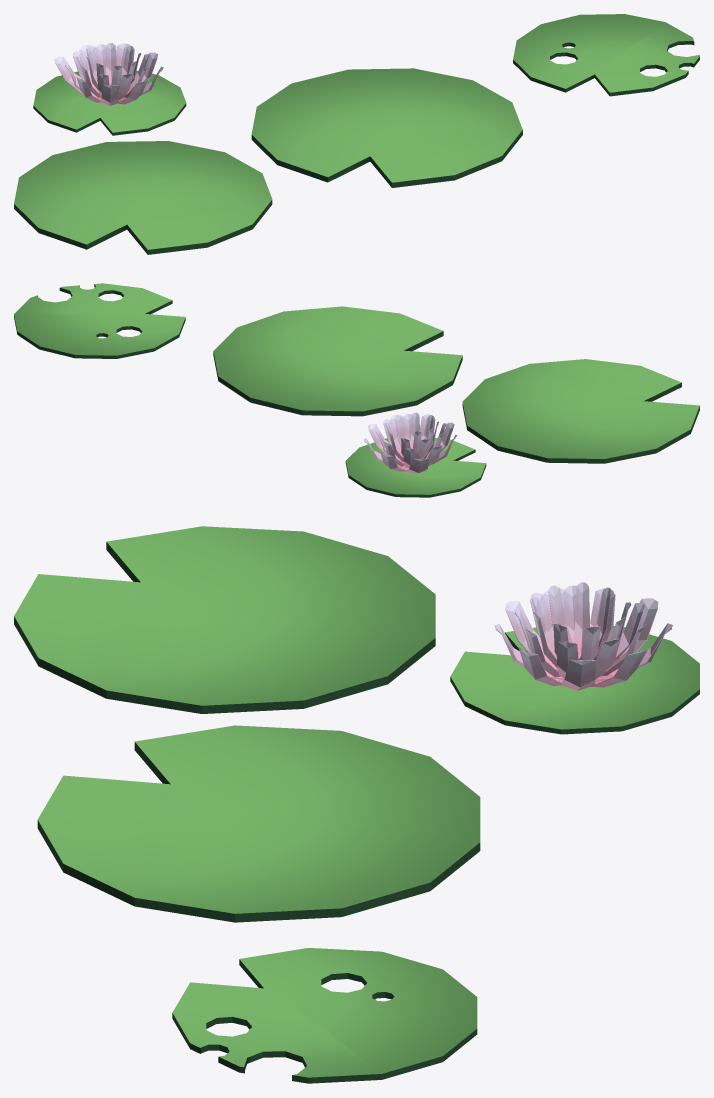
File: swamp887.fbx
The picture shows the model from 3 angles, top to bottom: view 1: azimuth 30°, elevation 25°; view 2: azimuth 150°, elevation 25°; view 3: azimuth 270°, elevation 25°; orthographic projection. The views are drawn at different scales.
Parts seen in each view (by area): view 1: Lilly, Lilly.003, Lilly.Rotted, Lilly.002, Flower.001; view 2: Lilly, Lilly.003, Lilly.Rotted, Lilly.002, Flower.001; view 3: Lilly, Lilly.003, Lilly.Rotted, Lilly.002, Flower.001.
Boxes of the visible parts, box(x1,y1,x2,y2) form: Lilly: box(251, 68, 522, 187); Lilly.003: box(14, 141, 272, 254); Lilly.Rotted: box(513, 14, 699, 96); Lilly.002: box(33, 70, 186, 135); Flower.001: box(54, 43, 163, 105); Lilly: box(213, 306, 462, 416); Lilly.003: box(462, 359, 699, 463); Lilly.Rotted: box(14, 283, 185, 358); Lilly.002: box(345, 437, 486, 497); Flower.001: box(363, 412, 457, 473); Lilly: box(37, 725, 480, 922); Lilly.003: box(14, 526, 435, 713); Lilly.Rotted: box(172, 948, 477, 1083); Lilly.002: box(450, 626, 699, 734); Flower.001: box(494, 582, 672, 690).
Bounding box in the file's own units: 1409 × 102 × 742.
